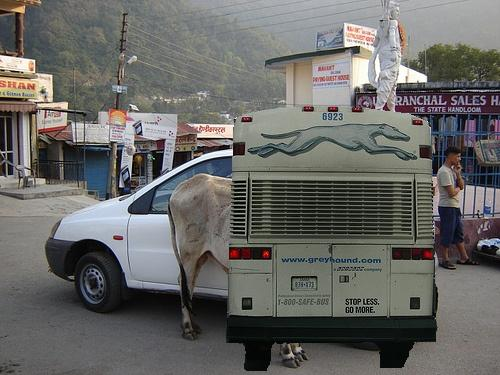tampered: (227, 107, 436, 371)
